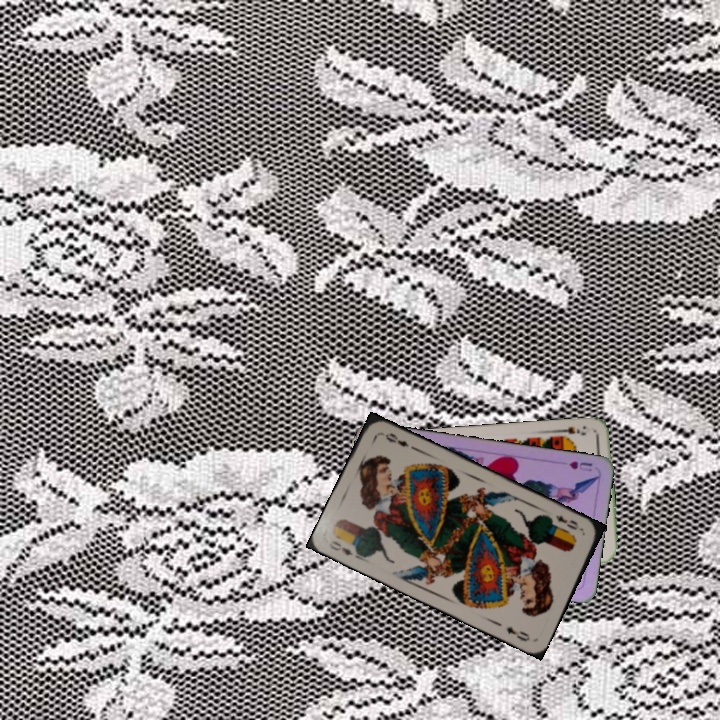EO: (325, 537, 364, 562), (552, 511, 586, 534)
HU: (565, 457, 595, 474)
S9: (553, 422, 589, 442)
